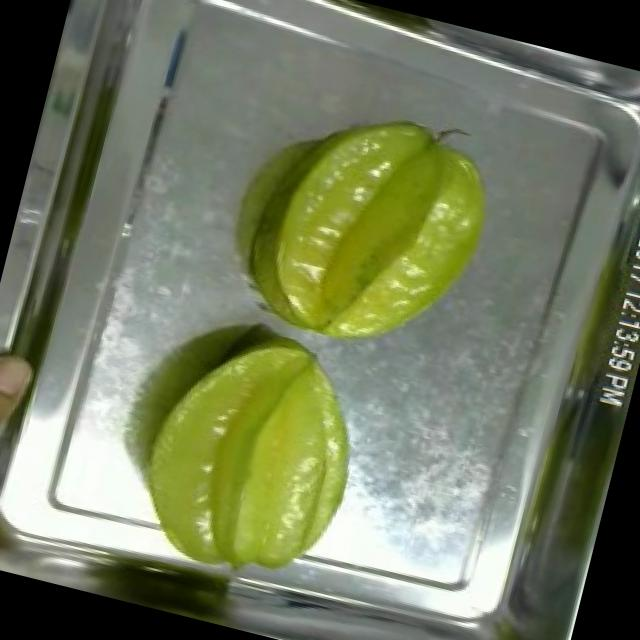fruit: (239, 78, 520, 381), (112, 300, 384, 603), (0, 336, 49, 569)
